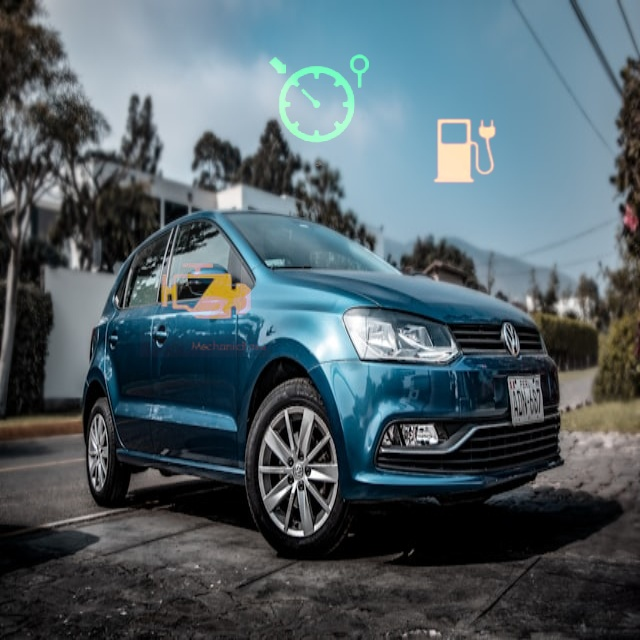symbol: (245, 26, 393, 174), (140, 226, 271, 357), (401, 88, 529, 216)
